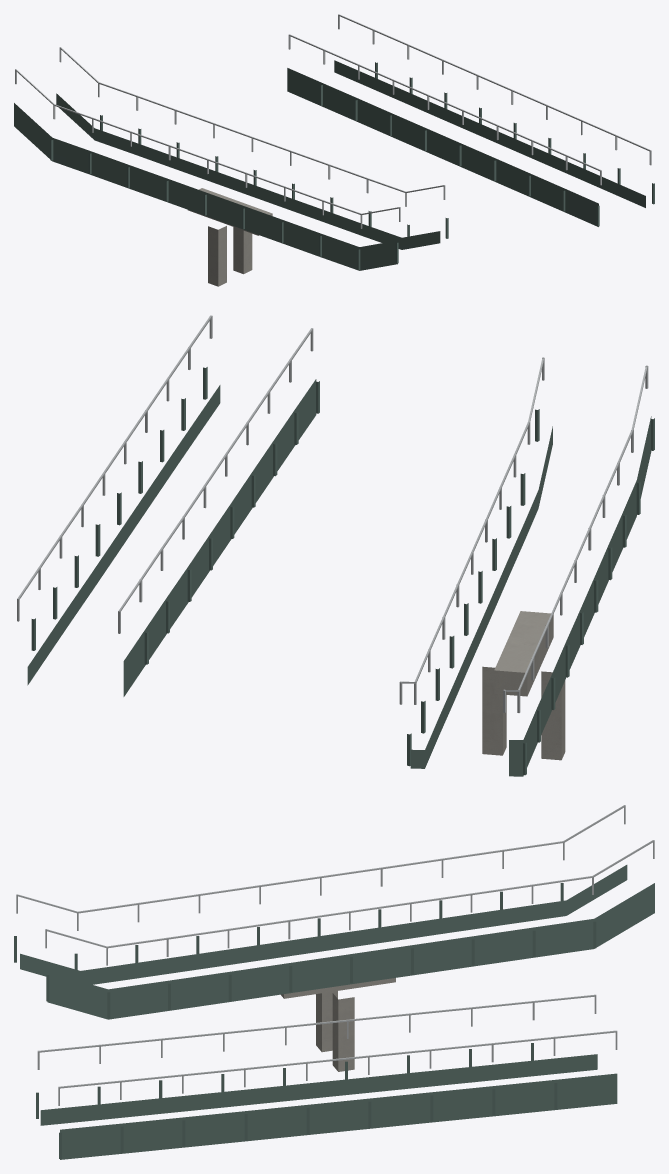
Rendered from bridge-north-ave.glb.
3 renders of one model, top to bottom at view 1: azimuth 30°, elevation 25°; view 2: azimuth 150°, elevation 25°; view 3: azimuth 270°, elevation 25°, orthographic. The views are drawn at different scales.
Visible parts, largest first — view 1: bridge-north-ave_lod0; view 2: bridge-north-ave_lod0; view 3: bridge-north-ave_lod0.
Boxes of the visible parts, box(x1,y1,x2,y2) form: bridge-north-ave_lod0: box(14, 14, 654, 286); bridge-north-ave_lod0: box(17, 315, 654, 776); bridge-north-ave_lod0: box(14, 805, 654, 1159).
Size of what is drawn, in the model's own units: 28.63 by 9.76 by 29.72.
4 materials, 2 textured.
